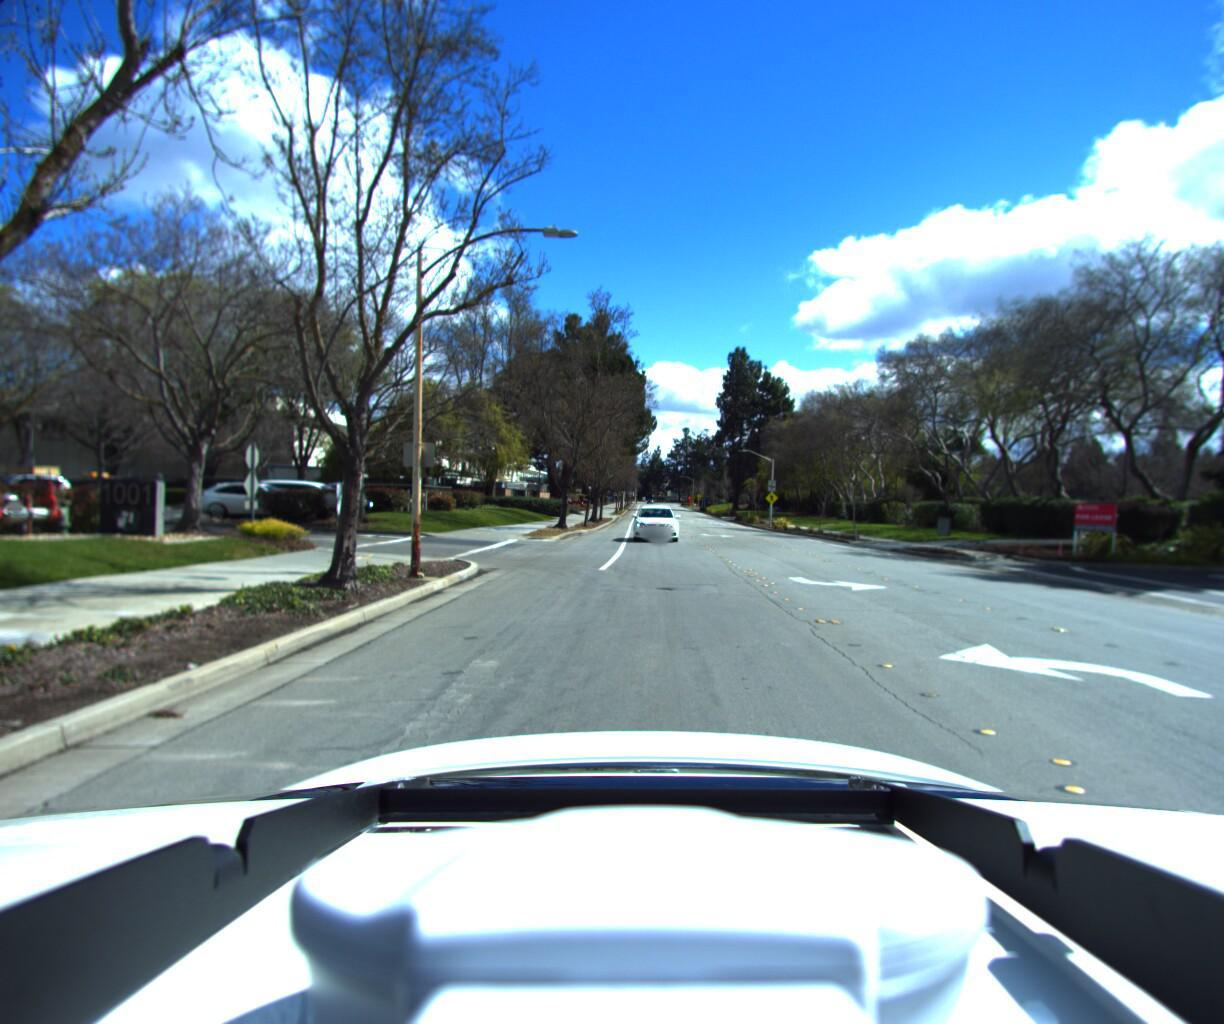car: (632, 513, 678, 553)
